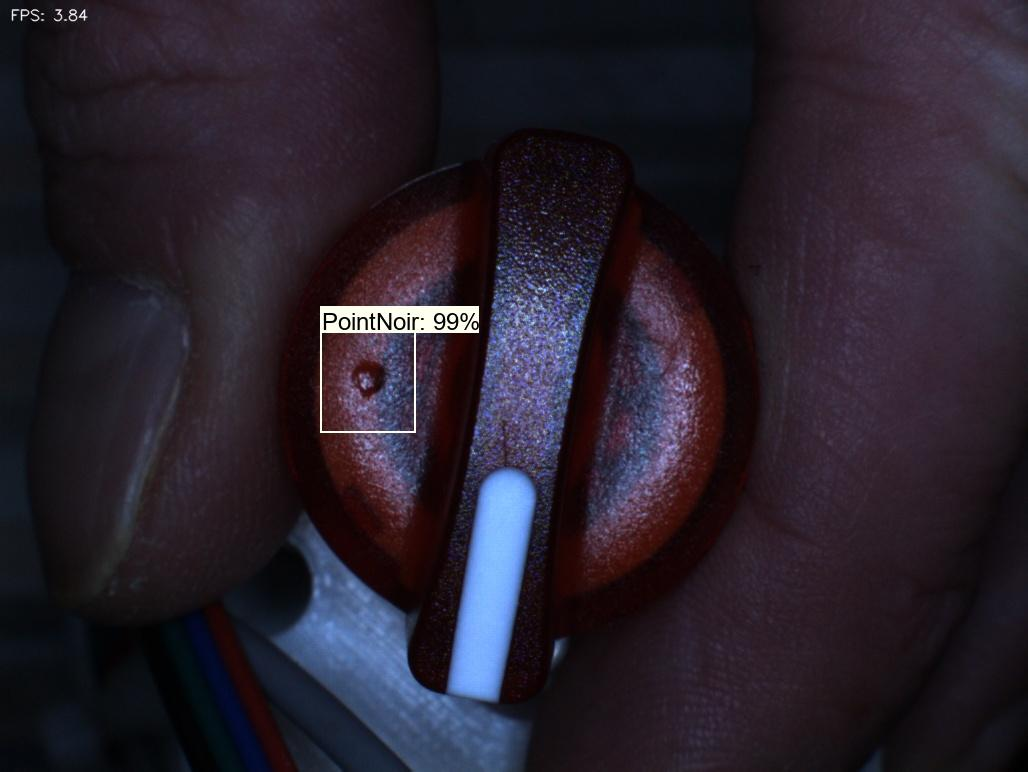Choc: (328, 340, 404, 415)
